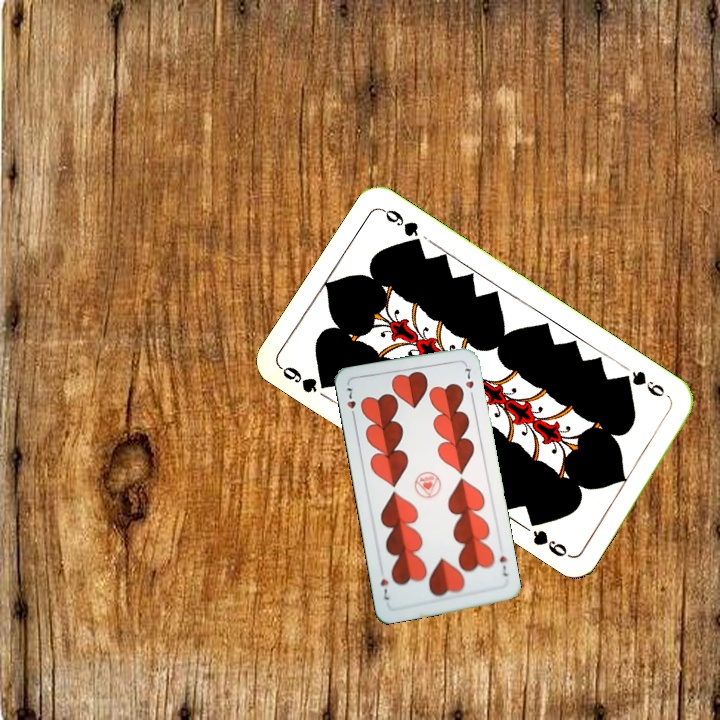G9: (276, 362, 335, 396), (617, 366, 667, 400)
H7: (342, 384, 358, 422), (495, 552, 512, 579)
